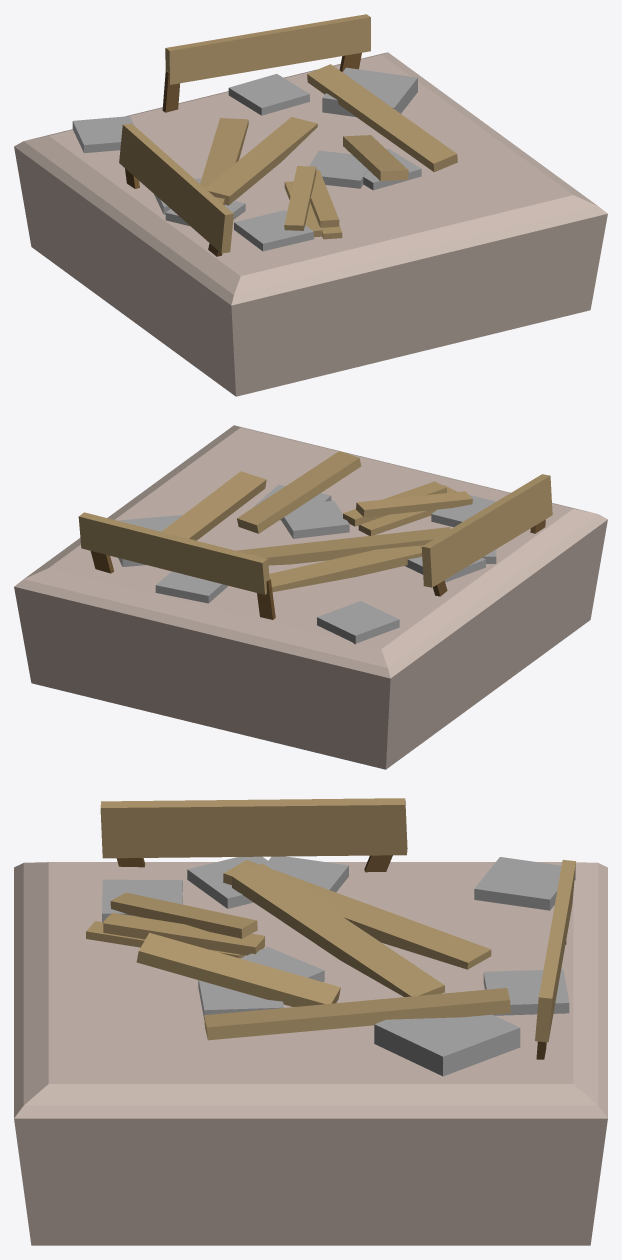
Rendered from ConstructionSite3.fbx.
3 views of the same model, one above another, from view 1: azimuth 30°, elevation 25°; view 2: azimuth 150°, elevation 25°; view 3: azimuth 270°, elevation 25° (orthographic). The views are drawn at different scales.
Parts seen in each view (by area): view 1: ConstructionSite3; view 2: ConstructionSite3; view 3: ConstructionSite3.
Part boxes in pixels (x1,y1,x2,y2): ConstructionSite3: (14, 14, 607, 396); ConstructionSite3: (14, 425, 607, 769); ConstructionSite3: (14, 798, 607, 1245).
Size of the model in its own units: 4 by 1.75 by 4.
